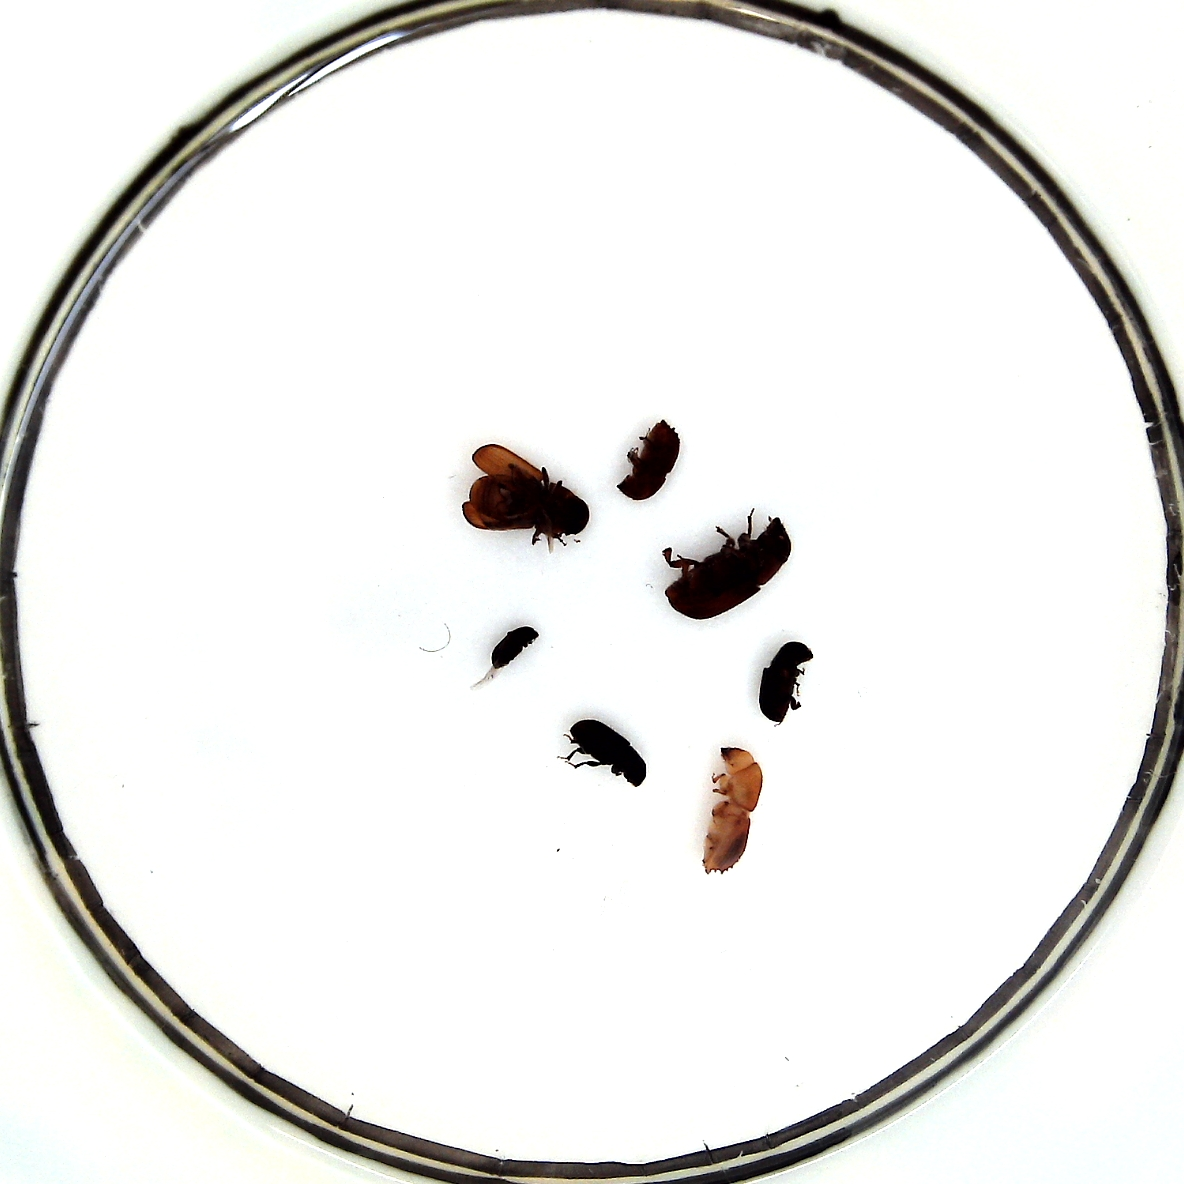Boerner: (700, 747, 762, 873)
Leconte: (664, 516, 792, 619), (461, 443, 588, 536)
armandi: (569, 719, 646, 786), (758, 640, 814, 722)
coleoptera: (490, 625, 539, 666)
linnaeus: (616, 419, 680, 501)
